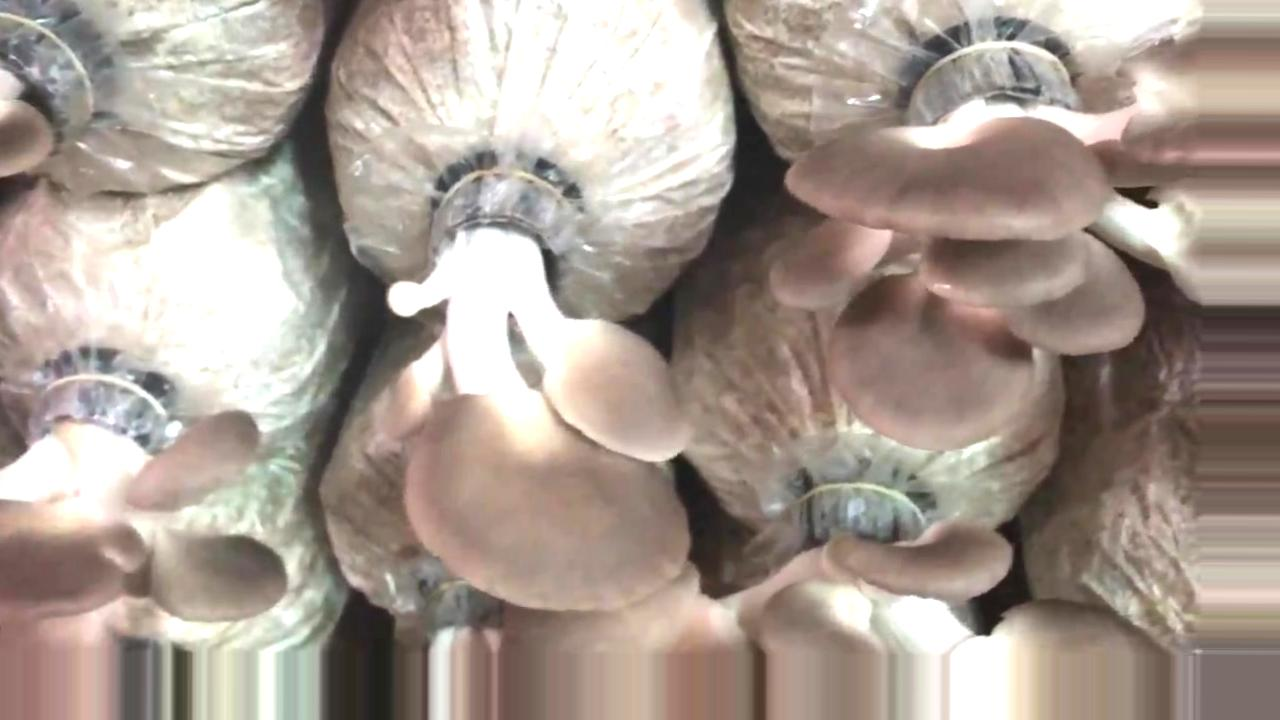nam: (453, 478, 1175, 720), (771, 48, 1170, 453), (382, 174, 695, 614), (1, 373, 288, 623)
